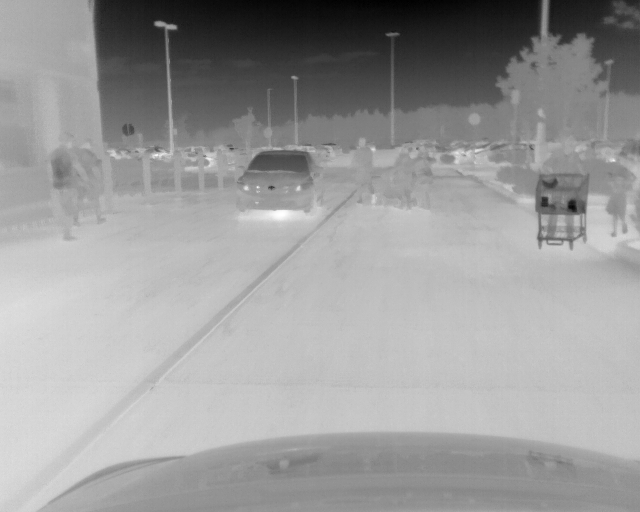car: (232, 150, 321, 214)
people: (48, 131, 82, 242), (542, 139, 579, 241), (77, 136, 108, 227), (351, 137, 378, 206), (606, 171, 630, 237), (391, 148, 414, 213), (413, 151, 432, 211)
